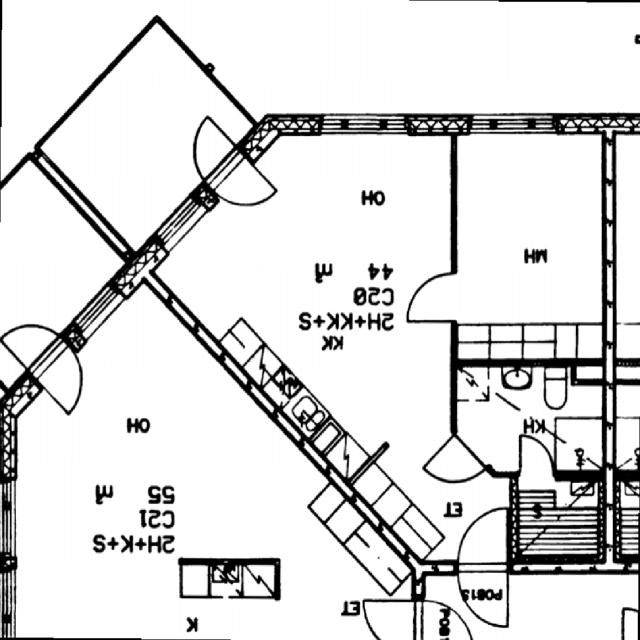door: (421, 430, 483, 494), (39, 351, 94, 417), (458, 568, 513, 628), (215, 160, 281, 208), (456, 507, 508, 567), (0, 322, 62, 369), (405, 270, 457, 324), (190, 112, 232, 178), (517, 432, 556, 478)
window: (467, 113, 558, 137), (320, 113, 404, 136), (1, 484, 18, 562), (1, 568, 16, 626)
zone: (263, 132, 458, 397), (455, 128, 609, 364), (453, 355, 605, 476), (510, 473, 605, 568)
